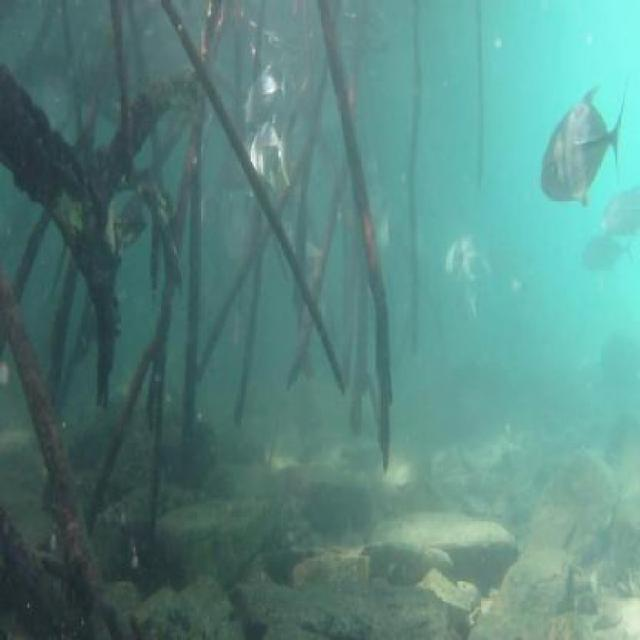Caranx_sexfasciatus_juvenile: (536, 70, 622, 210), (246, 110, 300, 199), (440, 214, 491, 295), (238, 61, 290, 133), (598, 168, 640, 237), (575, 229, 631, 276)
